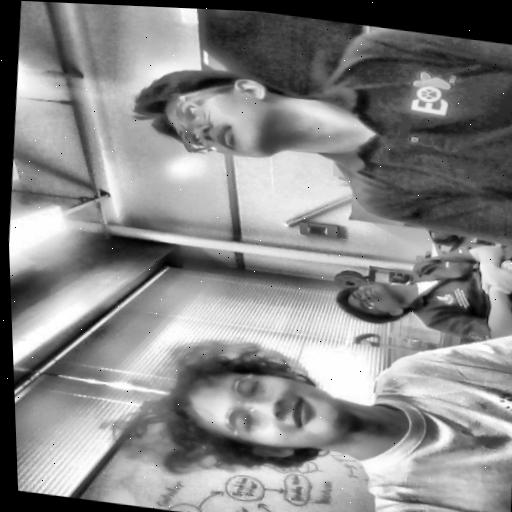Daifuku: (105, 323, 362, 488)
Not Daifuku: (124, 57, 311, 173), (328, 273, 414, 327)
